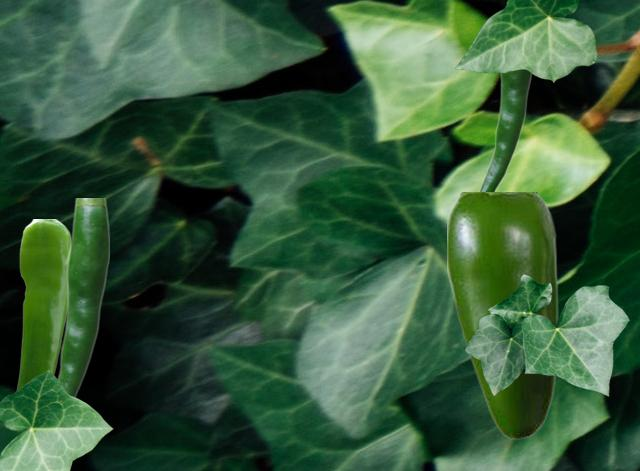green_chili: (447, 192, 557, 439), (57, 198, 108, 396), (16, 219, 70, 389), (478, 70, 532, 191)
